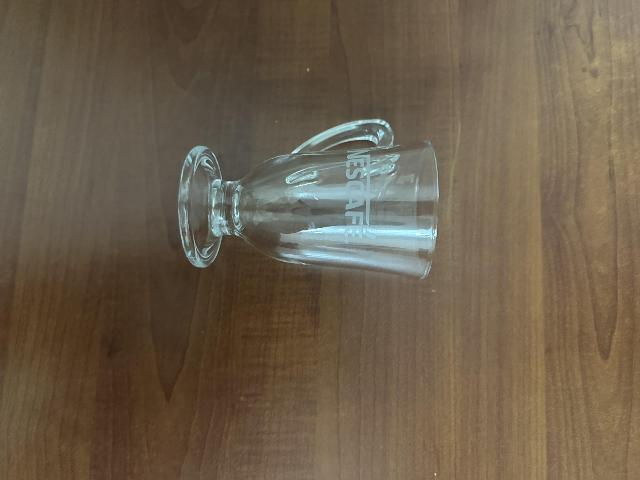Cam: (170, 117, 443, 279)
